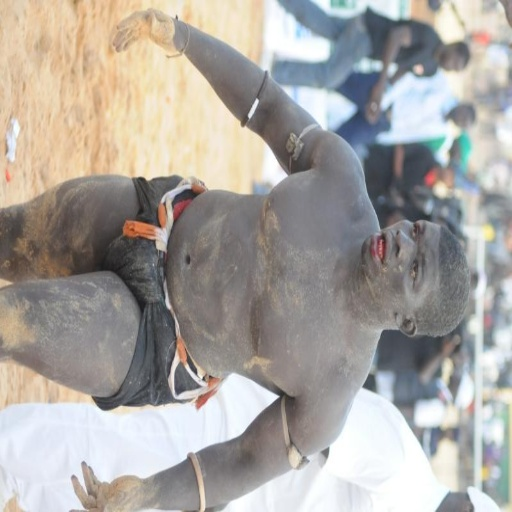hand: (103, 0, 192, 64), (66, 458, 144, 511), (441, 335, 459, 358), (387, 182, 403, 206), (369, 84, 381, 115), (363, 107, 383, 125)
